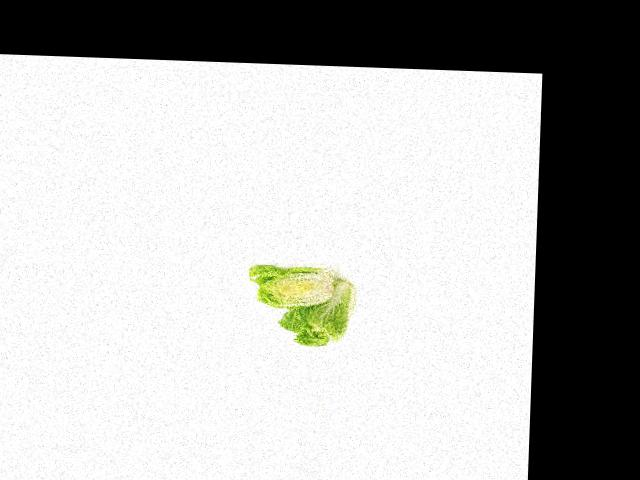lettuce: (273, 272, 359, 351)
